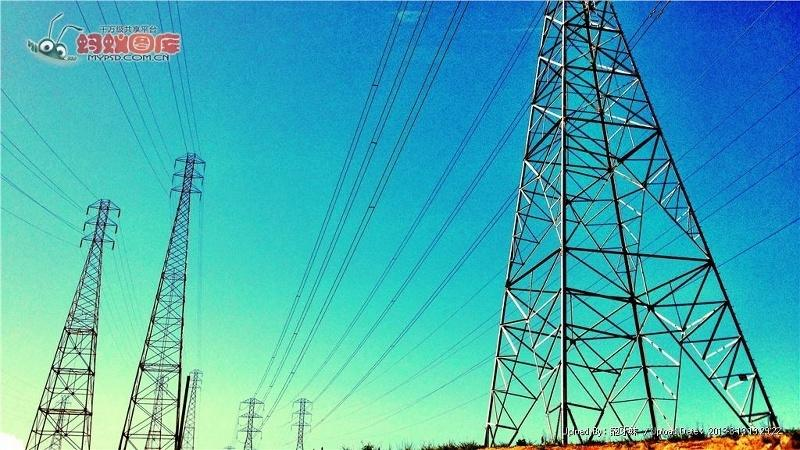power_tower: (498, 23, 765, 432), (121, 148, 213, 446), (28, 188, 127, 438), (231, 387, 271, 445)
